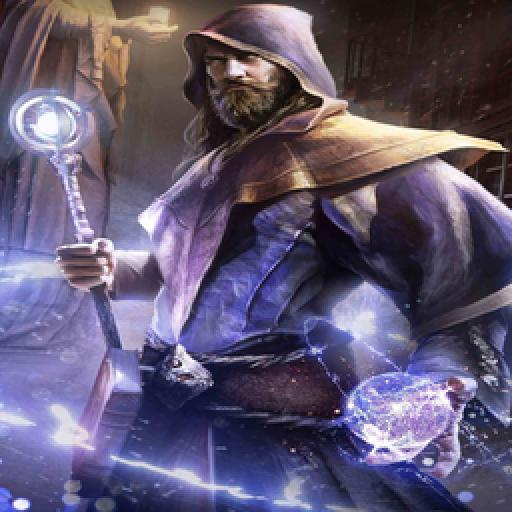wizards: (35, 2, 512, 503)
